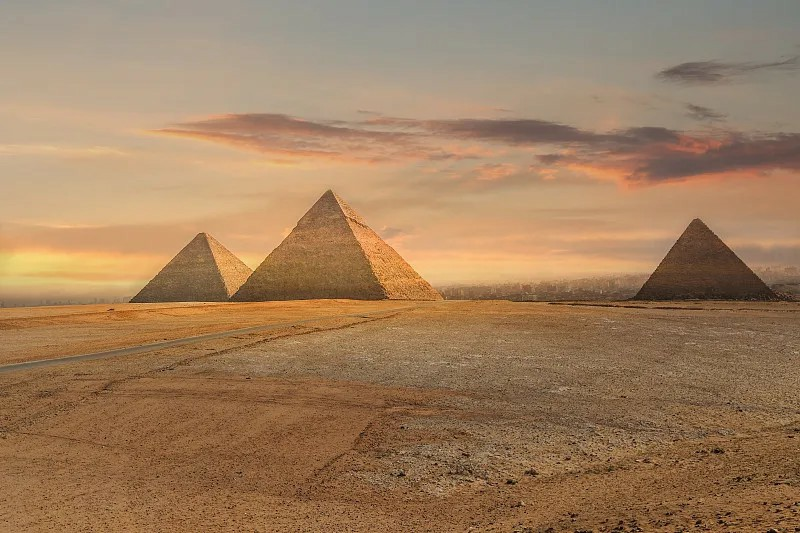Pyramid: (228, 189, 443, 301), (633, 217, 789, 304), (131, 232, 253, 303)
